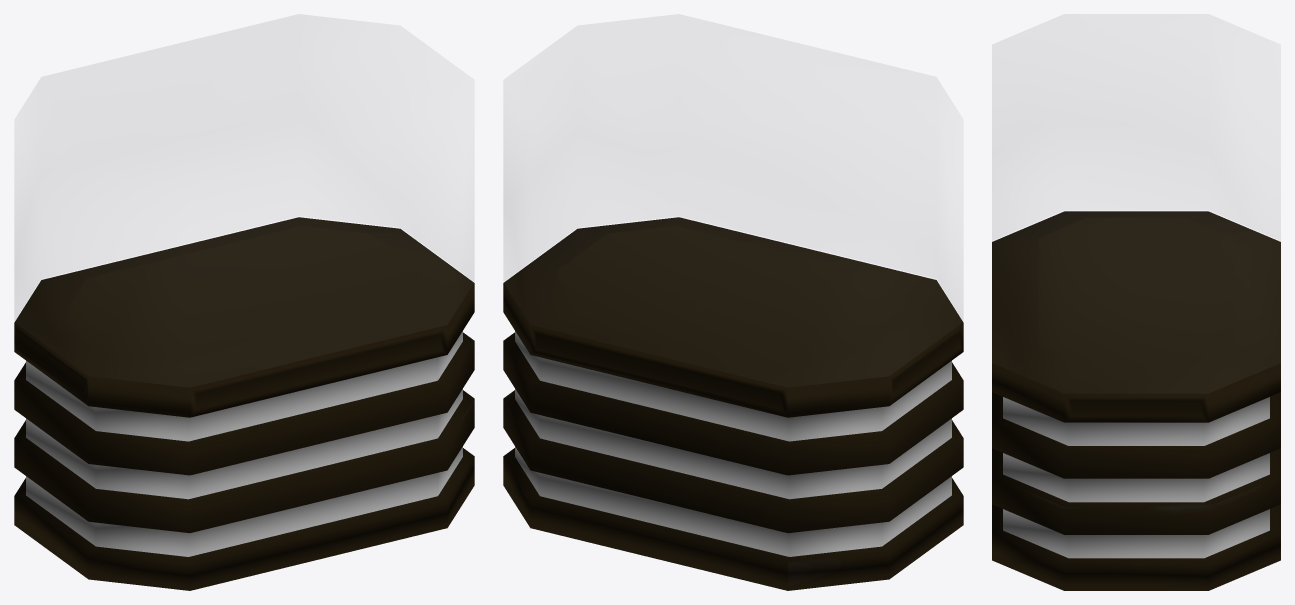
The model's file is Pedistal_Medium.fbx.
3 views of the same model, side by side, from view 1: azimuth 30°, elevation 25°; view 2: azimuth 150°, elevation 25°; view 3: azimuth 270°, elevation 25° (orthographic). The views are drawn at different scales.
Visible parts, largest first — view 1: polySurface2, polySurface1; view 2: polySurface2, polySurface1; view 3: polySurface2, polySurface1.
Part boxes in pixels (left/top/right/bottom): polySurface2: left=14, top=217, right=474, bottom=590; polySurface1: left=15, top=14, right=473, bottom=318; polySurface2: left=503, top=217, right=963, bottom=590; polySurface1: left=504, top=14, right=962, bottom=318; polySurface2: left=992, top=211, right=1280, bottom=590; polySurface1: left=992, top=14, right=1280, bottom=240.
Bounding box in the file's own units: 600 × 602 × 400.
2 materials, 1 textured.
